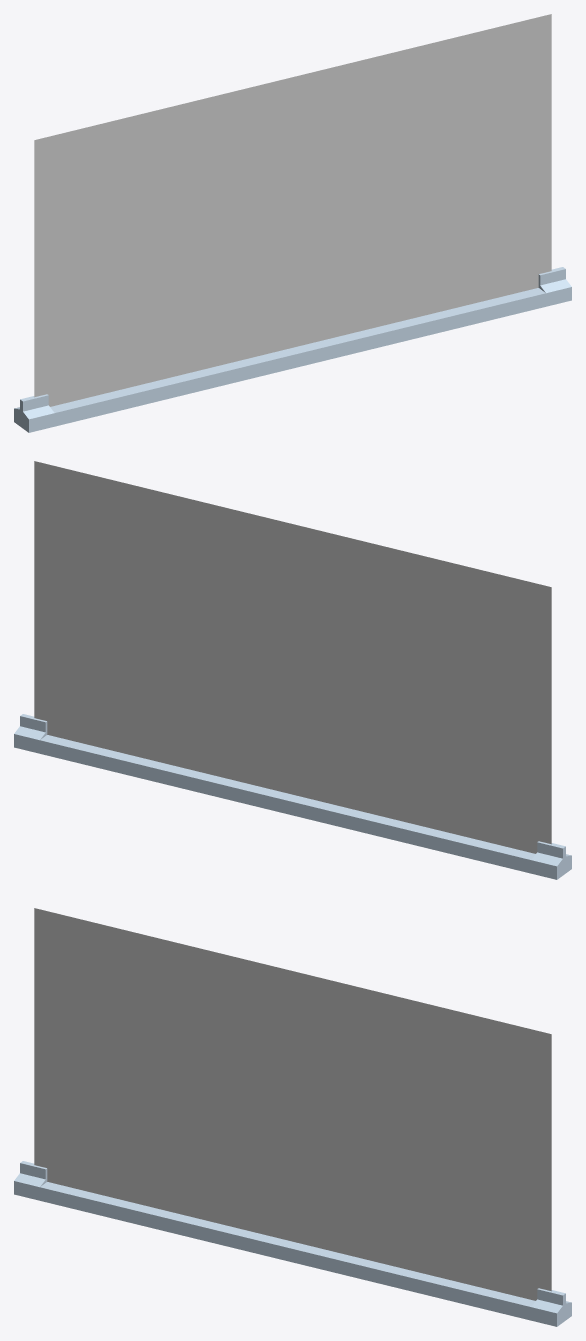
The model's file is Billboard.fbx.
The picture shows the model from 3 angles, top to bottom: view 1: azimuth 30°, elevation 25°; view 2: azimuth 150°, elevation 25°; view 3: azimuth 330°, elevation 25°; orthographic projection.
Parts seen in each view (by area): view 1: Plane, Cube.030; view 2: Plane, Cube.030; view 3: Plane, Cube.030.
Part boxes in pixels (box(x1,y1,x2,y2)): Plane: box(34, 14, 551, 406); Cube.030: box(14, 267, 571, 432); Plane: box(34, 461, 551, 853); Cube.030: box(14, 714, 571, 879); Plane: box(34, 908, 551, 1300); Cube.030: box(14, 1161, 571, 1326).
Size of the model in its own units: 420 by 210 by 20.
